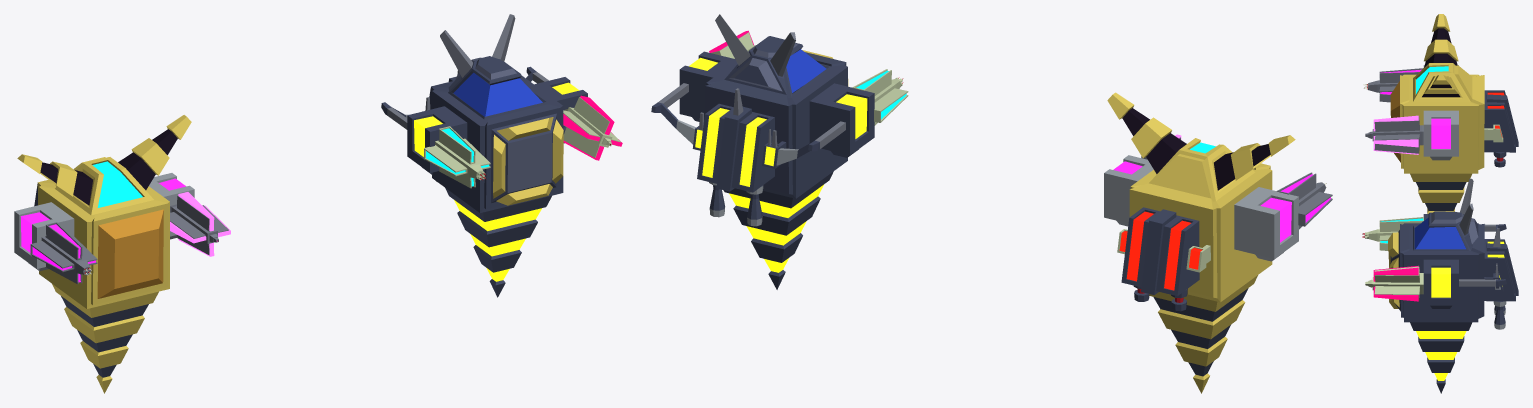
The model's file is flyingBee.glb.
3 views of the same model, side by side, from view 1: azimuth 30°, elevation 25°; view 2: azimuth 150°, elevation 25°; view 3: azimuth 270°, elevation 25° (orthographic). The views are drawn at different scales.
Parts seen in each view (by area): view 1: Cube, Cube.007, Cube.009, Cube.008, Cube.002, Cube.001; view 2: Cube, Cube.007, Cube.008, Cube.001; view 3: Cube.007, Cube, Cube.002, Cube.009, Cube.001, Cube.008.
Boxes of the visible parts, bbox=[...] form: Cube: bbox=[14, 115, 194, 393]; Cube.007: bbox=[381, 14, 587, 297]; Cube.009: bbox=[563, 95, 622, 160]; Cube.008: bbox=[424, 126, 490, 188]; Cube.002: bbox=[170, 192, 230, 256]; Cube.001: bbox=[30, 222, 97, 284]; Cube: bbox=[1104, 92, 1298, 393]; Cube.007: bbox=[651, 14, 874, 289]; Cube.008: bbox=[852, 69, 908, 125]; Cube.001: bbox=[1276, 172, 1332, 229]; Cube.007: bbox=[1388, 178, 1518, 393]; Cube: bbox=[1390, 14, 1518, 213]; Cube.002: bbox=[1365, 115, 1423, 154]; Cube.009: bbox=[1365, 265, 1423, 301]; Cube.001: bbox=[1368, 68, 1423, 102]; Cube.008: bbox=[1365, 217, 1423, 250].
Bounding box in the file's own units: 13.56 × 6.01 × 4.22.
9 materials, 1 textured.
